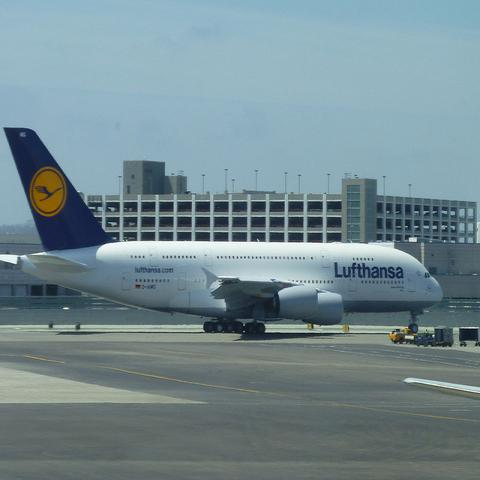truck: (430, 327, 454, 348), (390, 329, 415, 344), (416, 332, 432, 348)
